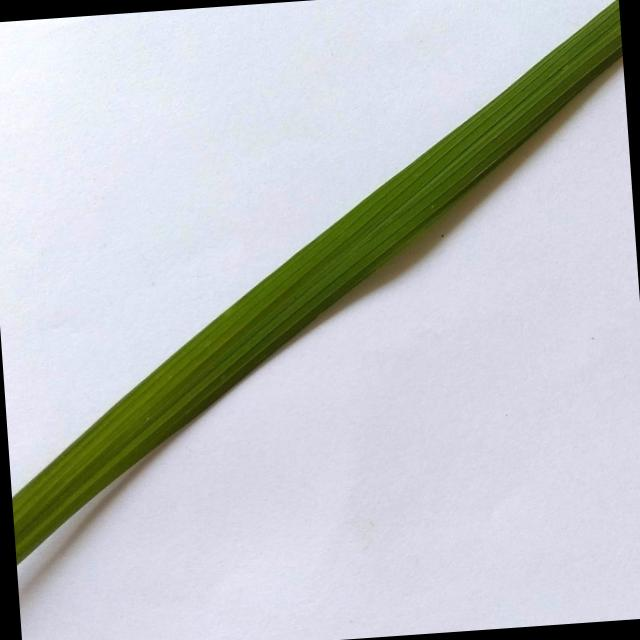Rice_Healthy: (12, 0, 622, 563)
